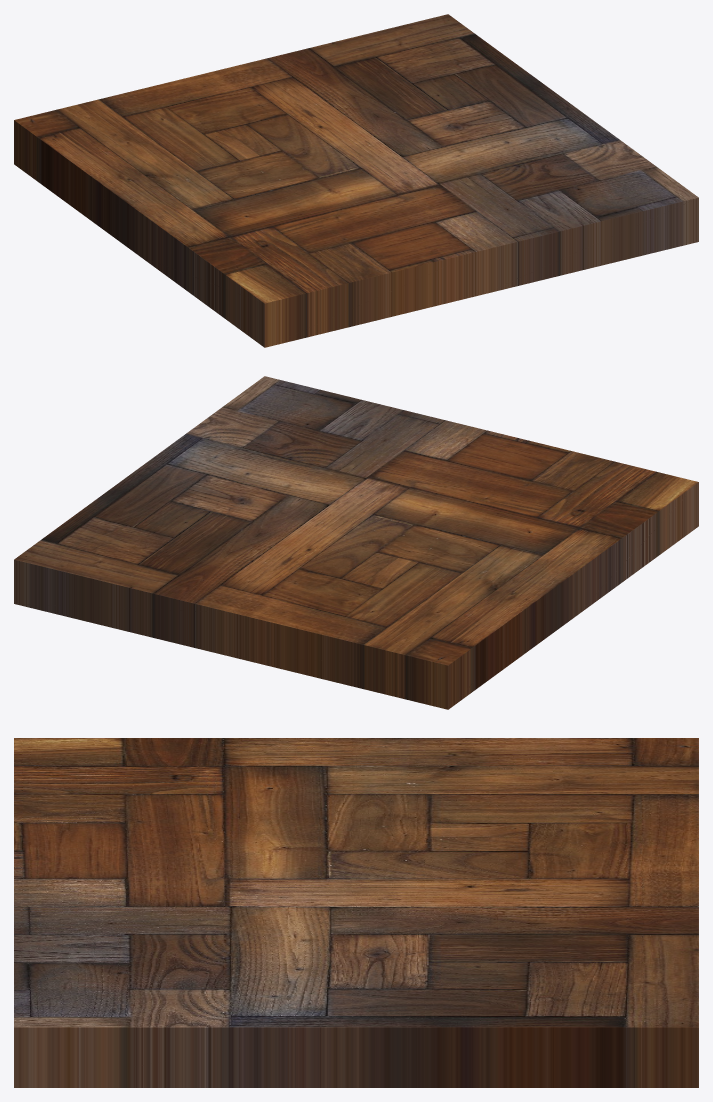
File: WoodenFloor.glb
The picture shows the model from 3 angles, top to bottom: view 1: azimuth 30°, elevation 25°; view 2: azimuth 150°, elevation 25°; view 3: azimuth 270°, elevation 25°; orthographic projection. The views are drawn at different scales.
Visible parts, largest first — view 1: Plane; view 2: Plane; view 3: Plane.
Boxes of the visible parts, left/top/right/bottom form: Plane: left=14, top=14, right=698, bottom=347; Plane: left=14, top=376, right=698, bottom=709; Plane: left=14, top=738, right=698, bottom=1087.
Size of the model in its own units: 2 by 0.1947 by 2.
1 material, 1 textured.
